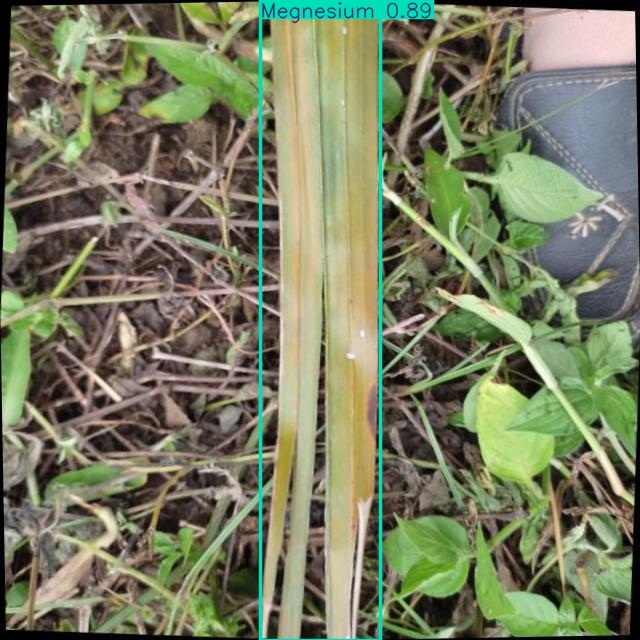Megnesium: (260, 0, 381, 640)
